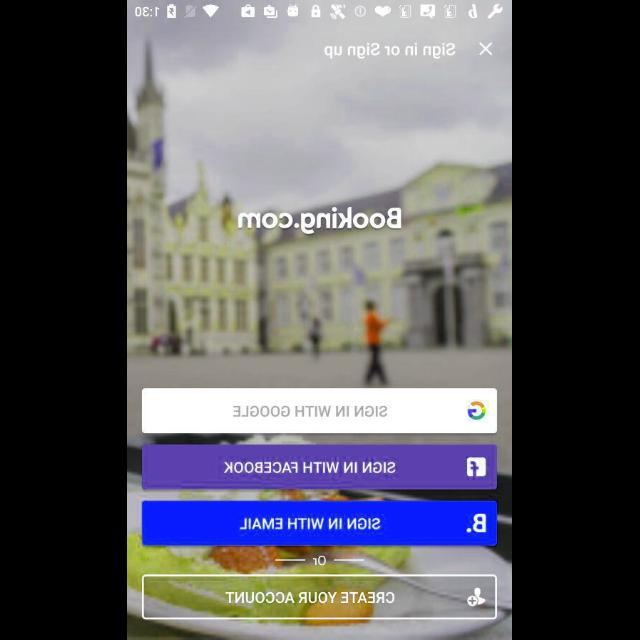backgroundimage: (128, 21, 512, 640)
icon: (478, 42, 494, 56)
text: (238, 207, 402, 235), (324, 42, 456, 59), (314, 555, 326, 565)
textbutton: (142, 574, 498, 620), (142, 500, 498, 546), (142, 388, 498, 434), (143, 445, 497, 489)
uppertaskbar: (128, 2, 512, 20)
